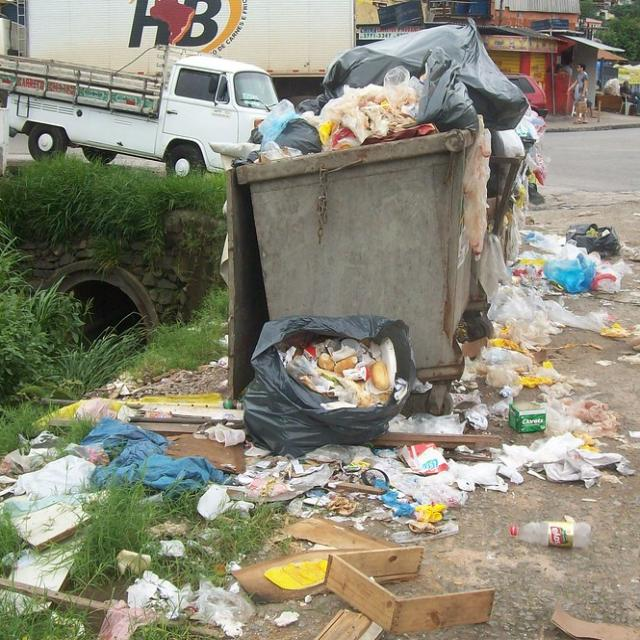garbage: (0, 16, 630, 640)
